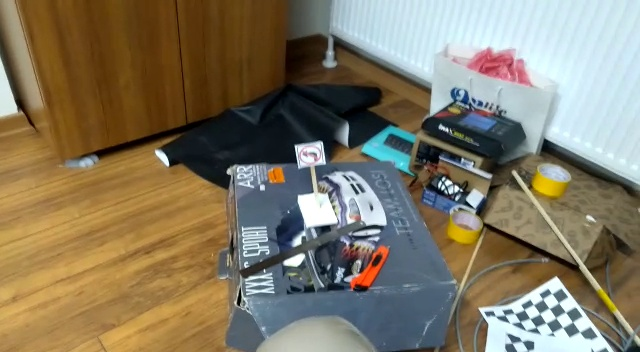sola_donulmez: (297, 141, 324, 166)
